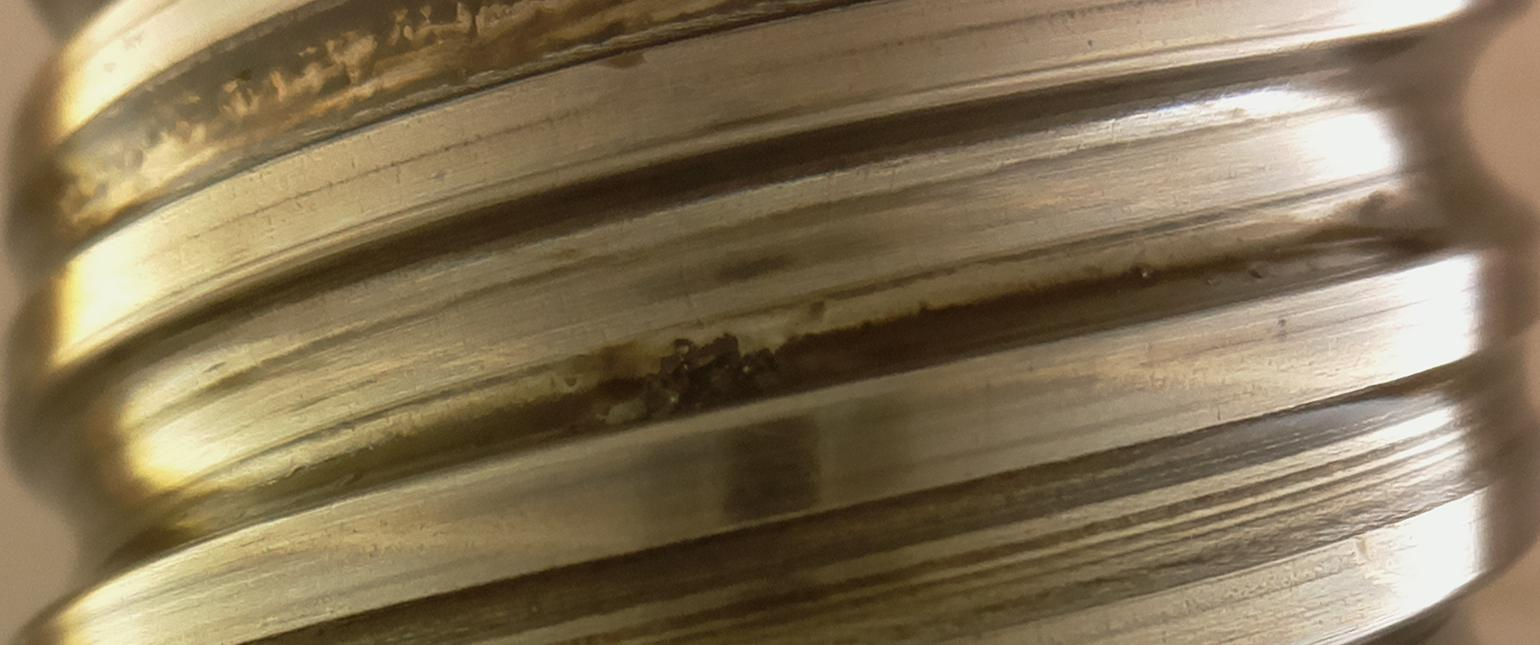pitting: (638, 332, 775, 420)
